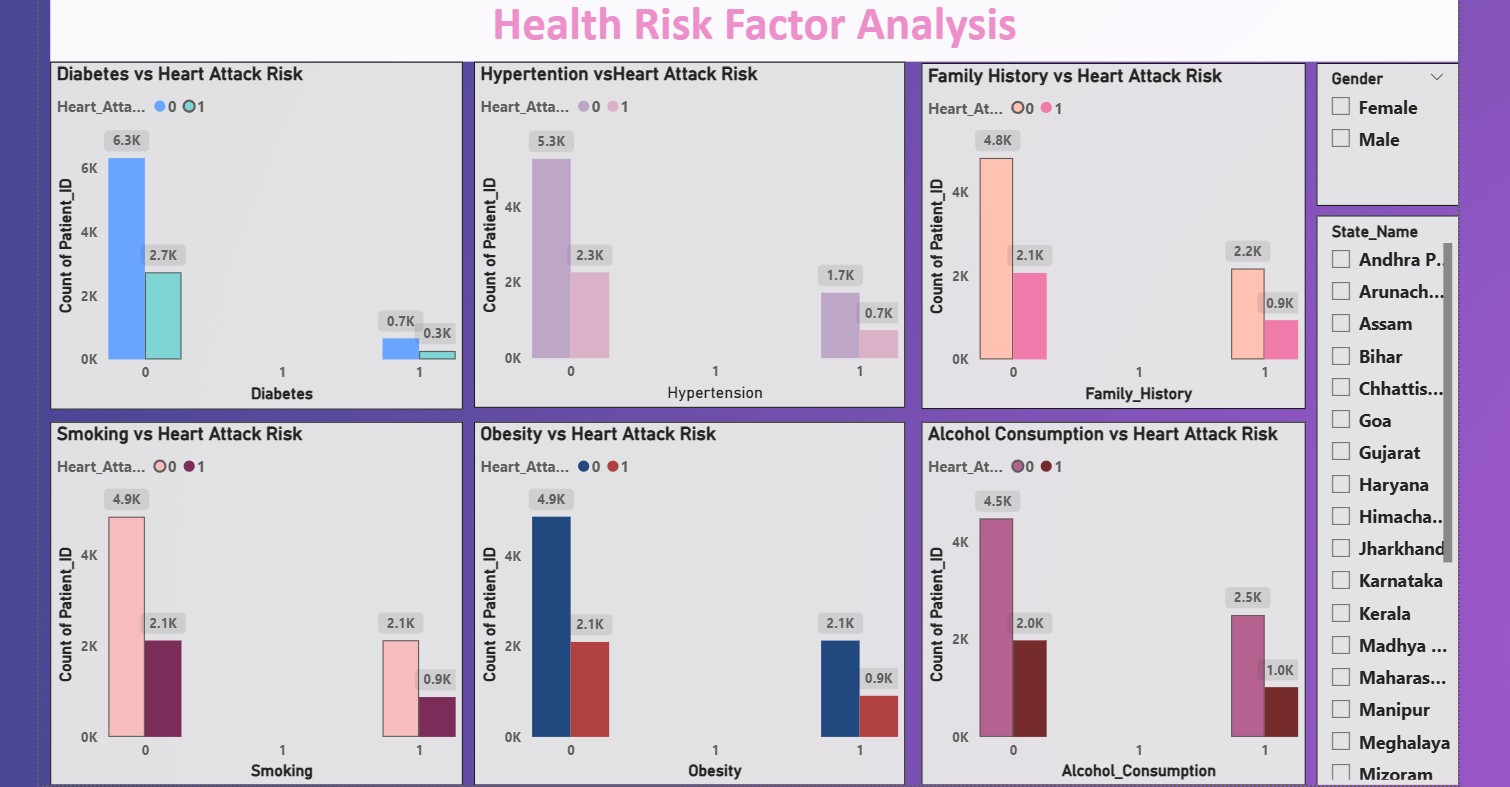

Layout of this report page (visuals, bound fields, positions):
{"tool":"powerbi","page":{"name":"Page 3","canvas":[1280,720],"ordinal":2},"visuals":[{"type":"textbox","box":[10.1,0,1270.3,66.5],"z":0},{"type":"clusteredColumnChart","title":"Diabetes vs Heart Attack Risk","fields":{"Category":["heart_attack_final.Diabetes"],"Y":["CountNonNull(heart_attack_final.Patient_ID)"],"Series":["heart_attack_final.Heart_Attack_Risk"]},"box":[10.1,66.5,371.9,313.3],"z":1},{"type":"clusteredColumnChart","title":"Smoking vs Heart Attack Risk","fields":{"Category":["heart_attack_final.Smoking"],"Y":["CountNonNull(heart_attack_final.Patient_ID)"],"Series":["heart_attack_final.Heart_Attack_Risk"]},"box":[10.1,391.1,371.9,329.1],"z":2},{"type":"clusteredColumnChart","title":"Hypertention vsHeart Attack Risk","fields":{"Category":["heart_attack_final.Hypertension"],"Y":["CountNonNull(heart_attack_final.Patient_ID)"],"Series":["heart_attack_final.Heart_Attack_Risk"]},"box":[392.2,66.5,388.9,312.2],"z":3},{"type":"clusteredColumnChart","title":"Obesity vs Heart Attack Risk","fields":{"Category":["heart_attack_final.Obesity"],"Y":["CountNonNull(heart_attack_final.Patient_ID)"],"Series":["heart_attack_final.Heart_Attack_Risk"]},"box":[392.2,391.1,388.9,329.1],"z":4},{"type":"clusteredColumnChart","title":"Family History vs Heart Attack Risk","fields":{"Category":["heart_attack_final.Family_History"],"Series":["heart_attack_final.Heart_Attack_Risk"],"Y":["CountNonNull(heart_attack_final.Patient_ID)"]},"box":[795.7,67.6,346,312.2],"z":5},{"type":"clusteredColumnChart","title":"Alcohol Consumption vs Heart Attack Risk","fields":{"Category":["heart_attack_final.Alcohol_Consumption"],"Series":["heart_attack_final.Heart_Attack_Risk"],"Y":["CountNonNull(heart_attack_final.Patient_ID)"]},"box":[795.7,391.1,346,329.1],"z":6},{"type":"slicer","fields":{"Values":["heart_attack_final.State_Name"]},"box":[1151.9,205.1,128.5,515.1],"z":7},{"type":"slicer","fields":{"Values":["heart_attack_final.Gender"]},"box":[1151.9,67.6,128.5,128.5],"z":8}]}

Visuals, with their boxes in screenshot pixels (x1, y1, x2, y2):
textbox: (x1=43, y1=0, x2=1461, y2=59)
"Diabetes vs Heart Attack Risk" clusteredColumnChart: (x1=43, y1=59, x2=458, y2=408)
"Smoking vs Heart Attack Risk" clusteredColumnChart: (x1=43, y1=421, x2=458, y2=786)
"Hypertention vsHeart Attack Risk" clusteredColumnChart: (x1=469, y1=59, x2=904, y2=407)
"Obesity vs Heart Attack Risk" clusteredColumnChart: (x1=469, y1=421, x2=904, y2=786)
"Family History vs Heart Attack Risk" clusteredColumnChart: (x1=920, y1=60, x2=1306, y2=408)
"Alcohol Consumption vs Heart Attack Risk" clusteredColumnChart: (x1=920, y1=421, x2=1306, y2=786)
slicer - heart_attack_final.State_Name: (x1=1318, y1=213, x2=1461, y2=786)
slicer - heart_attack_final.Gender: (x1=1318, y1=60, x2=1461, y2=203)
